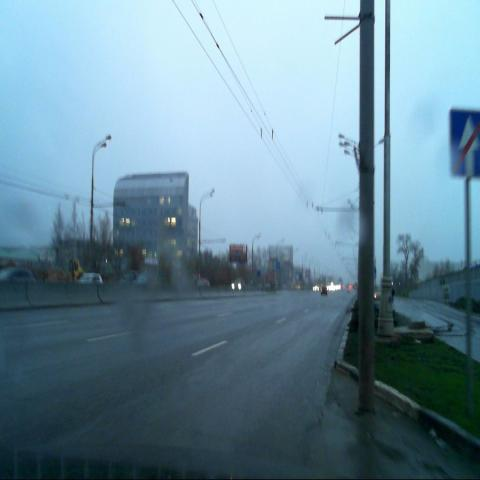5_6: (449, 109, 480, 179)
